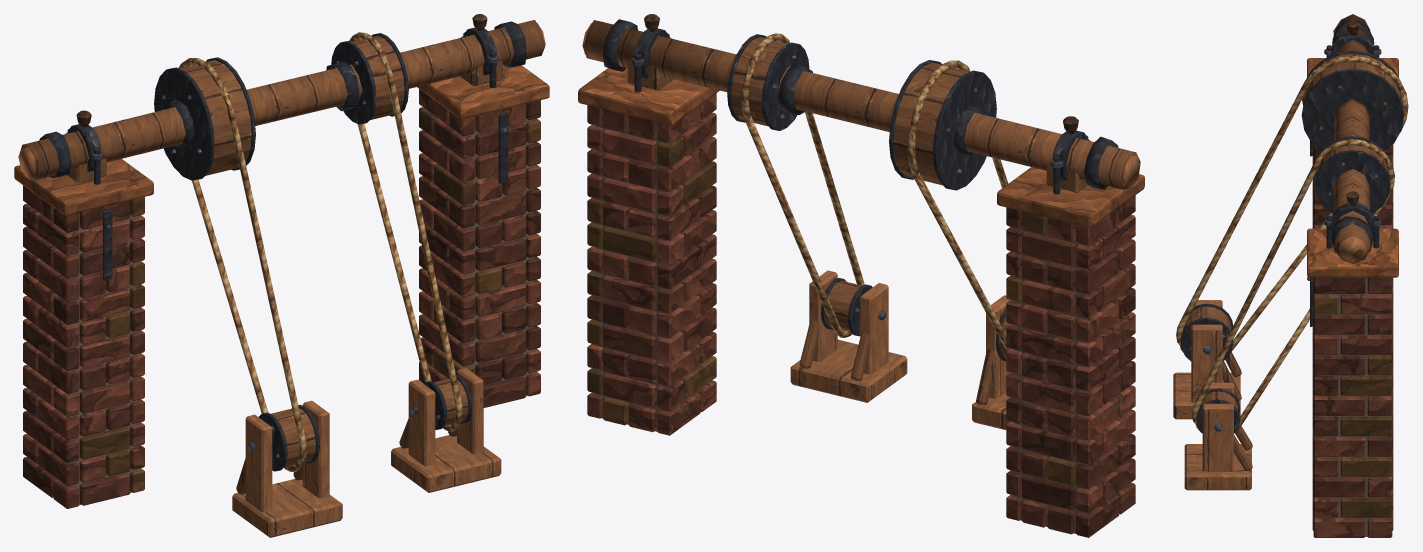
Rendered from hw_line_shaft.glb.
3 renders of one model, left to right at view 1: azimuth 30°, elevation 25°; view 2: azimuth 150°, elevation 25°; view 3: azimuth 270°, elevation 25°, orthographic. The views are drawn at different scales.
Parts seen in each view (by area): view 1: model; view 2: model; view 3: model.
Boxes of the visible parts, x1,y1,x2,y2 form: model: [14, 14, 549, 537]; model: [578, 14, 1144, 537]; model: [1173, 14, 1408, 537].
Bounding box in the file's own units: 2.32 × 1.71 × 1.05.
16 materials, 15 textured.
